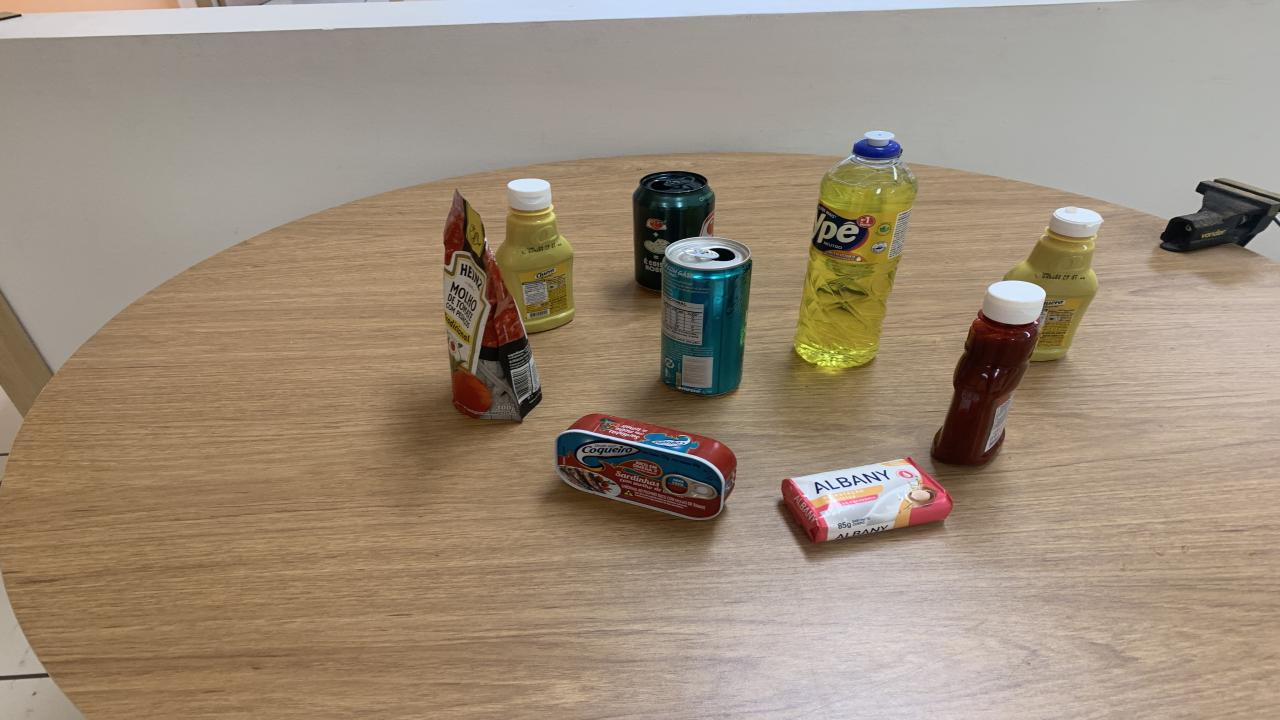Detergent-Cleanup_Items: (795, 131, 918, 368)
Guarana_Can-Drinks: (632, 171, 715, 291)
Ketchup-Pantry_Items: (930, 279, 1045, 465)
Mustard-Pantry_Items: (1005, 206, 1102, 362), (495, 178, 575, 332)
Soap-Cleanup_Items: (782, 459, 952, 542)
Tea-Drinks: (660, 236, 752, 396)
Tomato_Sauce-Pantry_Items: (442, 191, 542, 422)
Tuna_Can-Pantry_Items: (555, 414, 738, 519)
